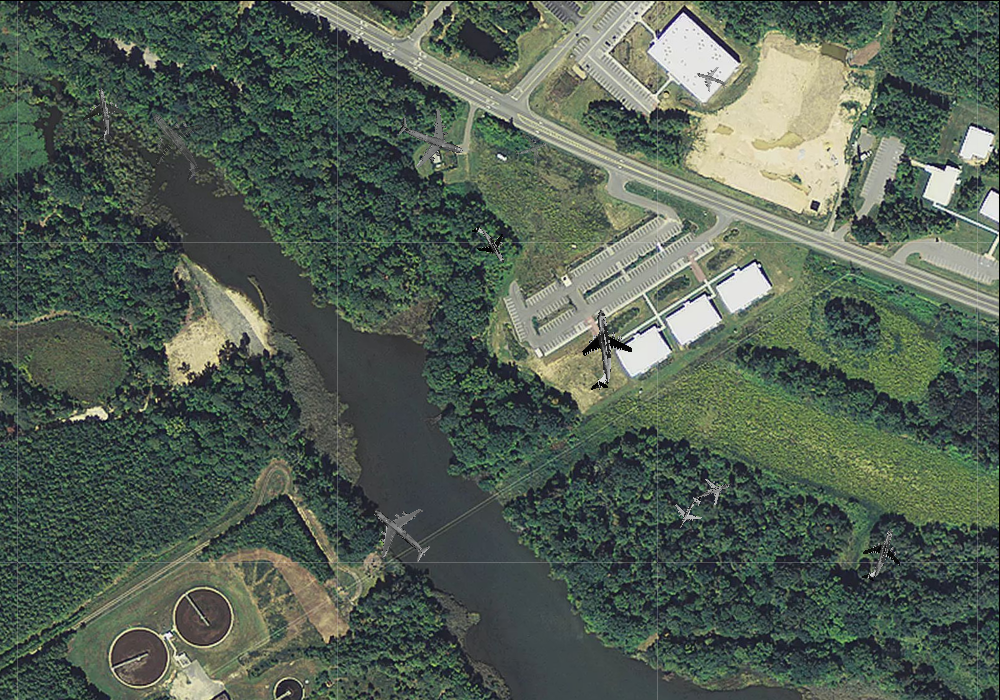plane: (122, 91, 226, 196), (351, 485, 446, 580), (386, 95, 475, 181), (562, 306, 640, 394), (848, 520, 912, 589), (73, 83, 132, 144), (461, 215, 517, 273), (688, 470, 737, 516), (666, 490, 710, 535), (510, 127, 553, 169), (691, 60, 732, 99)
